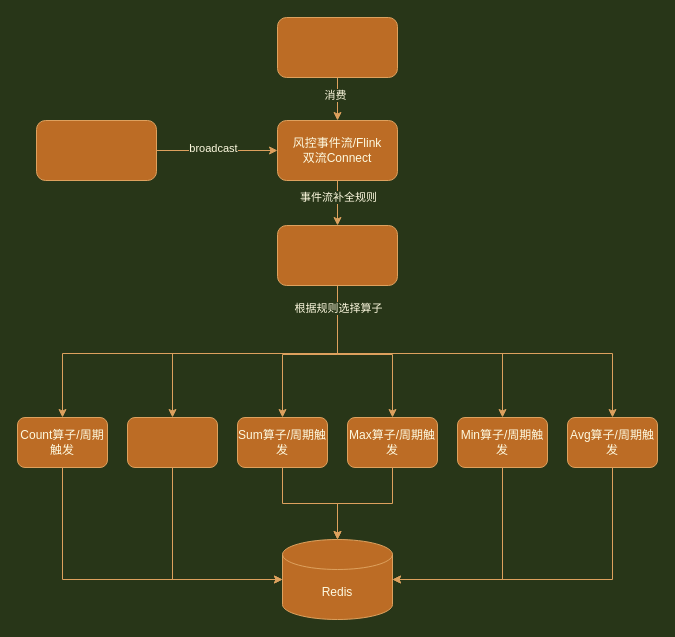
Image size: 675x637. Some labels were removed from this diagram. Here are the shapes that lost their labels. From the top down, the centre of each, then its label:
At (x=337, y=47): "风控事件消息".
At (x=96, y=150): "风控规则流/周期更新".
At (x=337, y=255): "设置时间窗口\提取Watermark".
At (x=172, y=442): "Distinct算子/周期触发".
